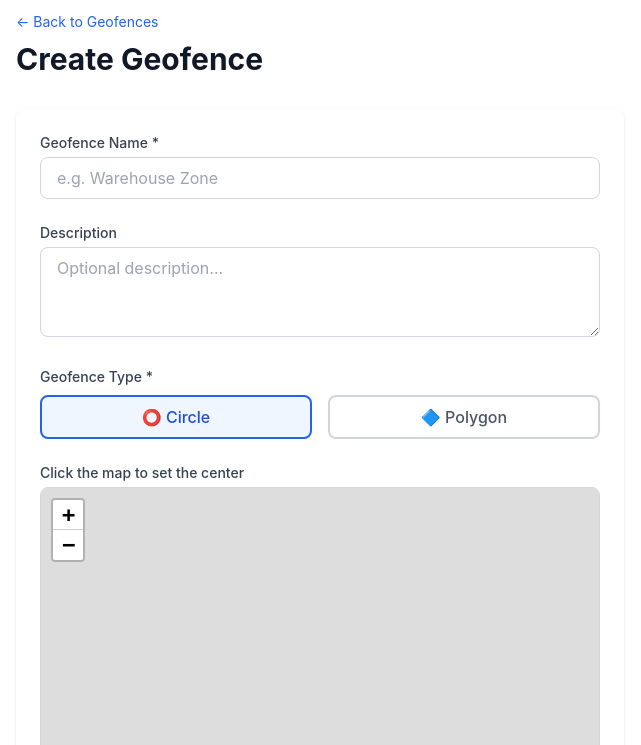
Test: CreateGeofencePage › disables the submit button and hides circle fields for polygon type
Click the button "🔷 Polygon": coordinates (464, 417) [328, 395, 600, 439]
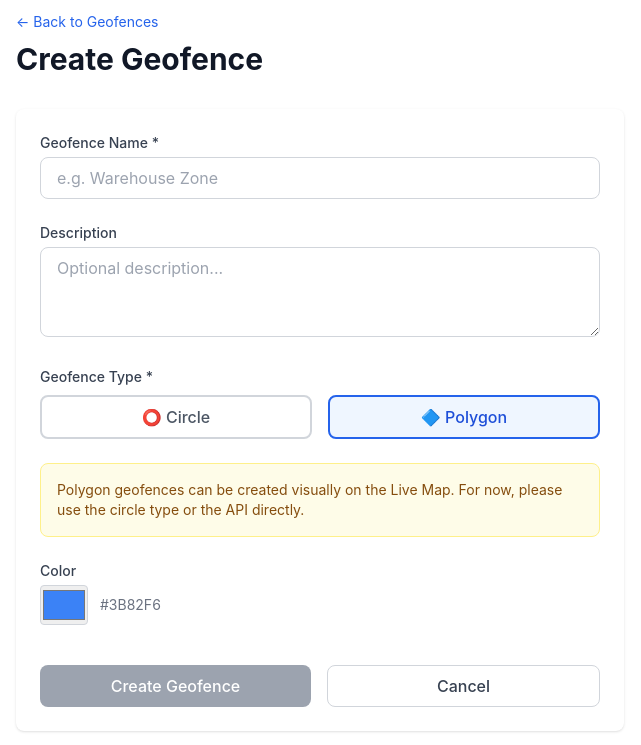
Expected: the button "Create Geofence" is disabled, [40, 665, 311, 707]
